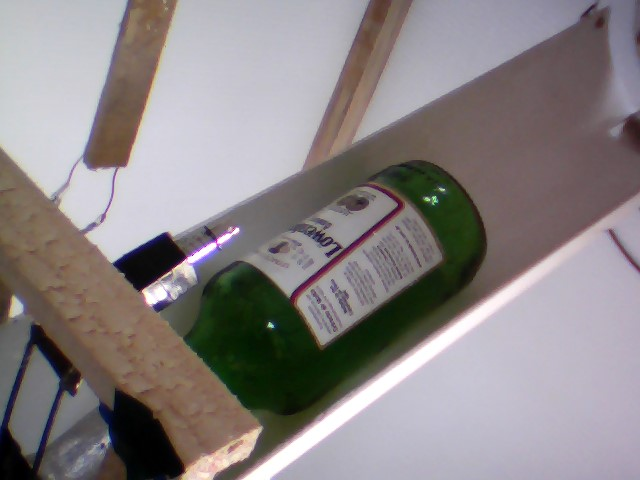vidrio: (172, 155, 494, 421)
